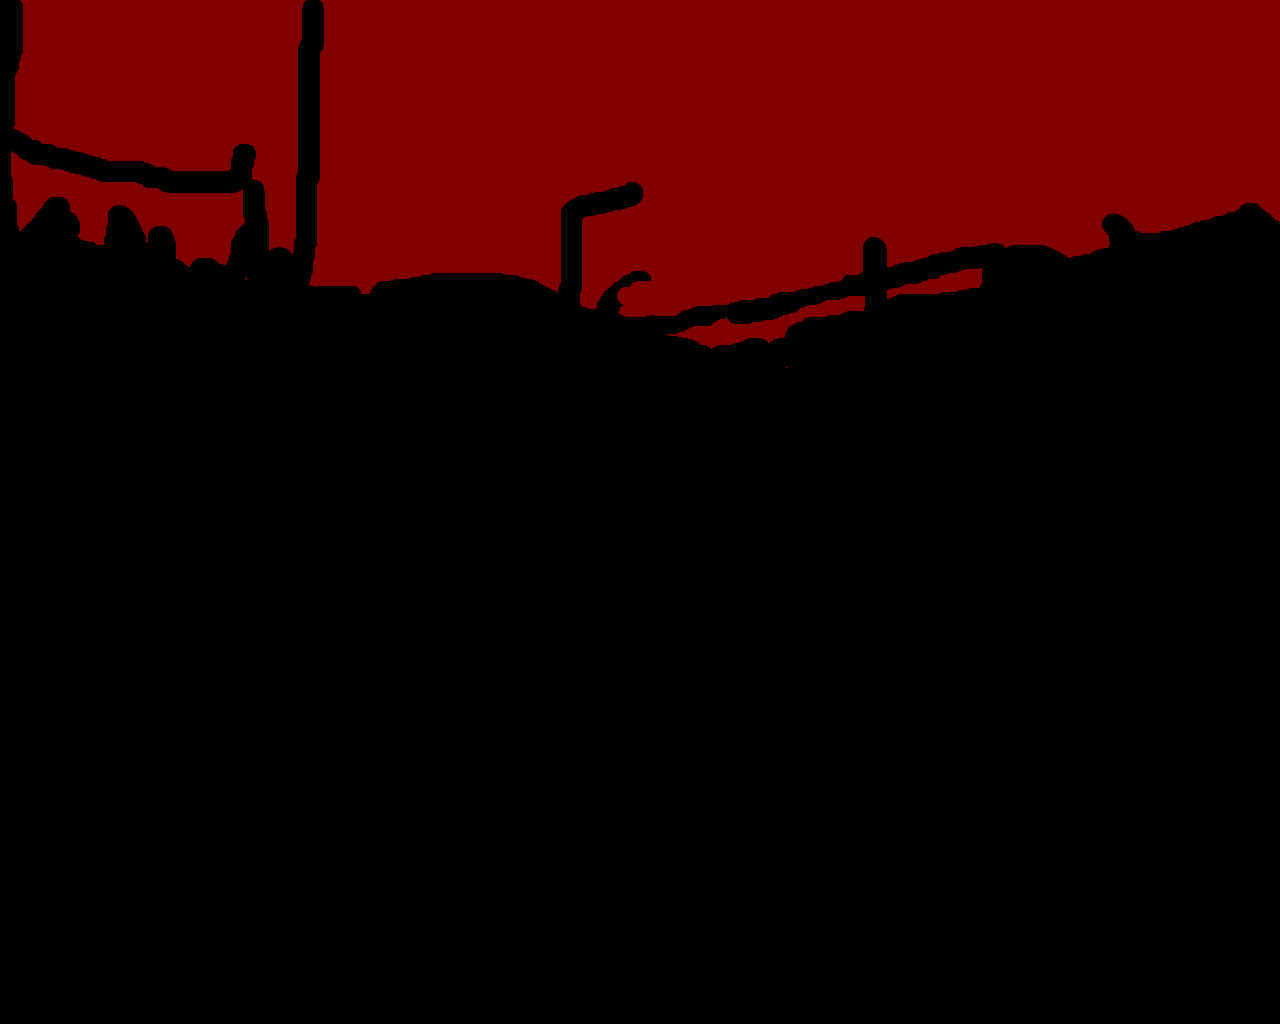Sky: (11, 1, 1279, 368)
